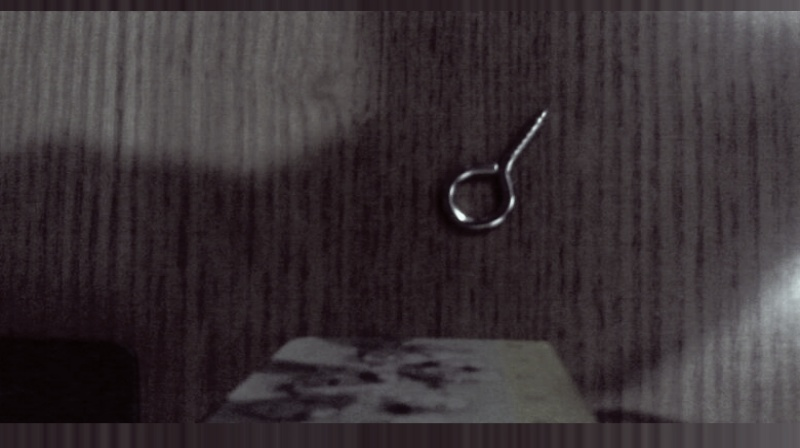O001: (435, 102, 557, 235)
